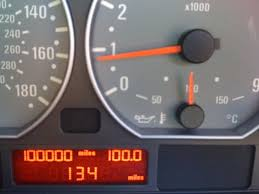Digital_Meter: (8, 143, 153, 190)
